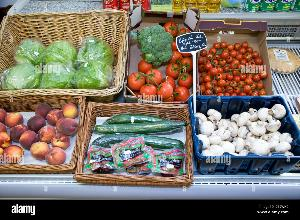cucumber: (83, 107, 193, 150)
peach: (0, 103, 80, 167)
tomato: (123, 25, 201, 99), (196, 32, 270, 100)
